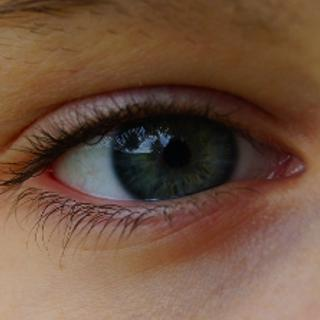pupil: (164, 139, 191, 167)
